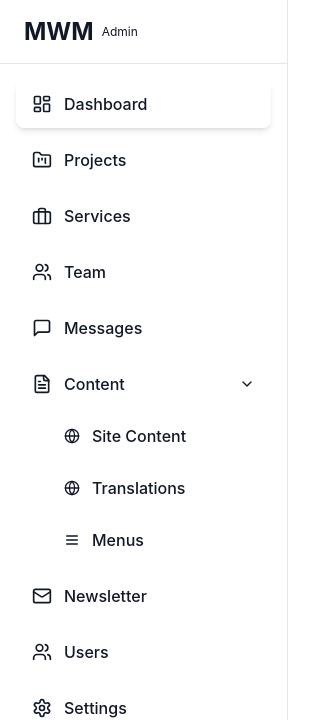
Test: AdminSidebar › Navigation › should toggle content submenu when clicked
Expected: the text "Site Content" is shown, [92, 426, 186, 446]
Expected: the text "Translations" is shown, [92, 478, 186, 498]
// Click to collapse
What coordinates should you click on to do the following:
click the text "Content"
I would click on:
 (94, 384)
Its box is [64, 374, 125, 394].
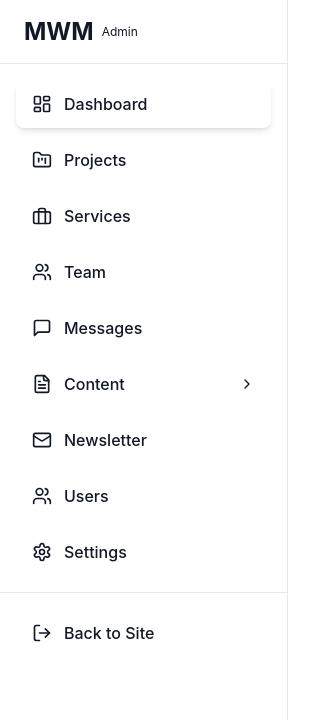
Now the link "Site Content" is gone
